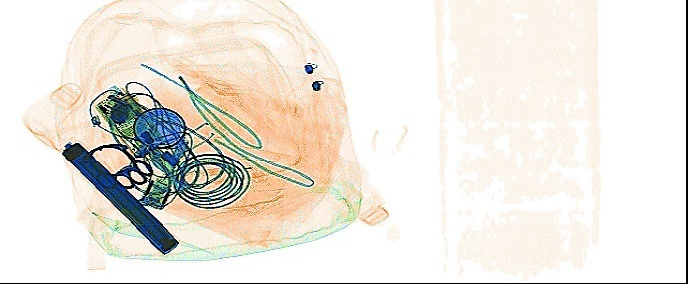powerbank: (60, 140, 179, 255)
